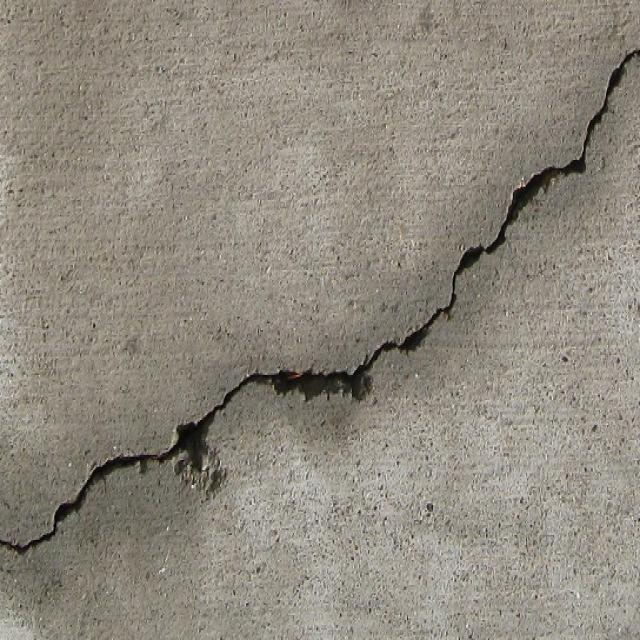Diagonal: (0, 49, 621, 562)
